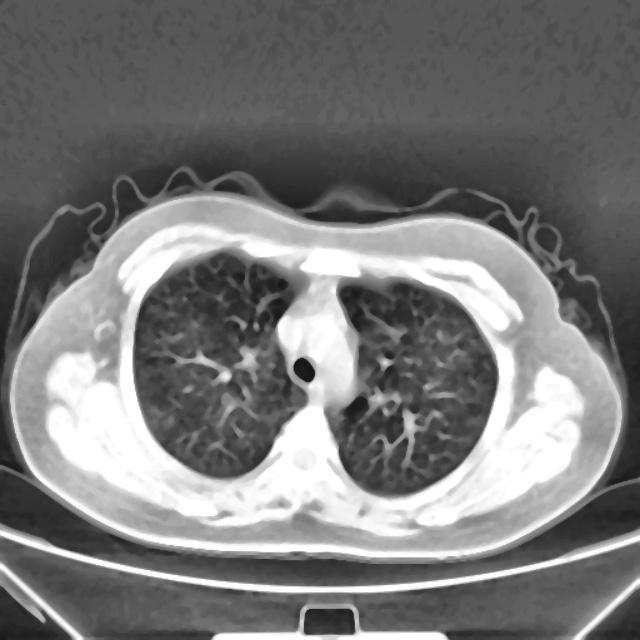covid: (7, 181, 625, 563)
